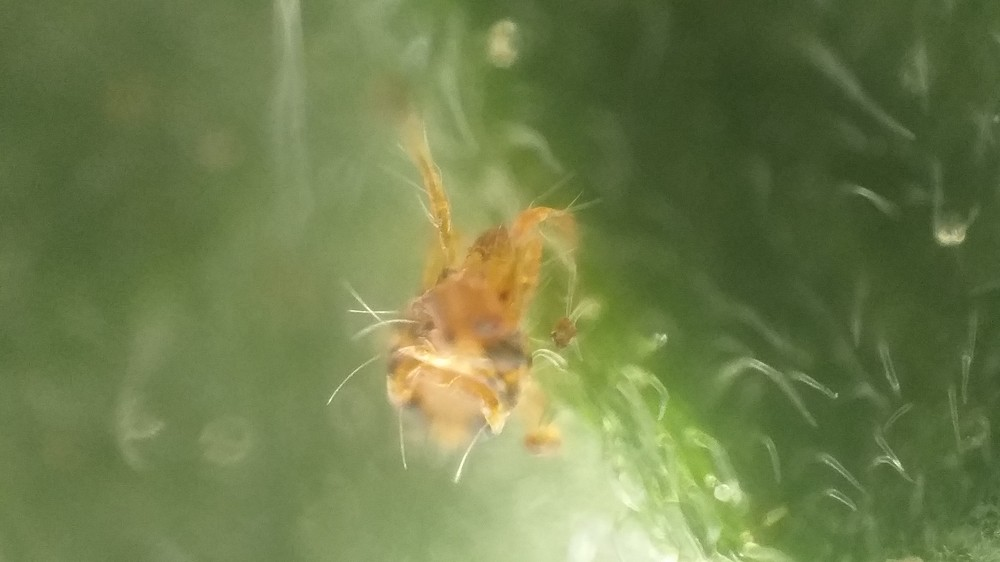Aracnido Rojo: (350, 114, 596, 497)
